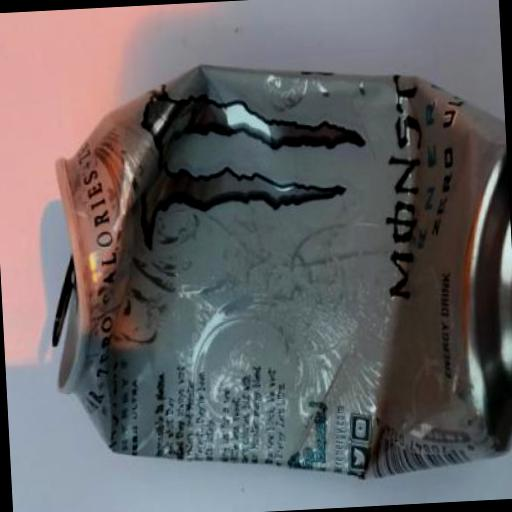metal: (37, 48, 512, 495)
